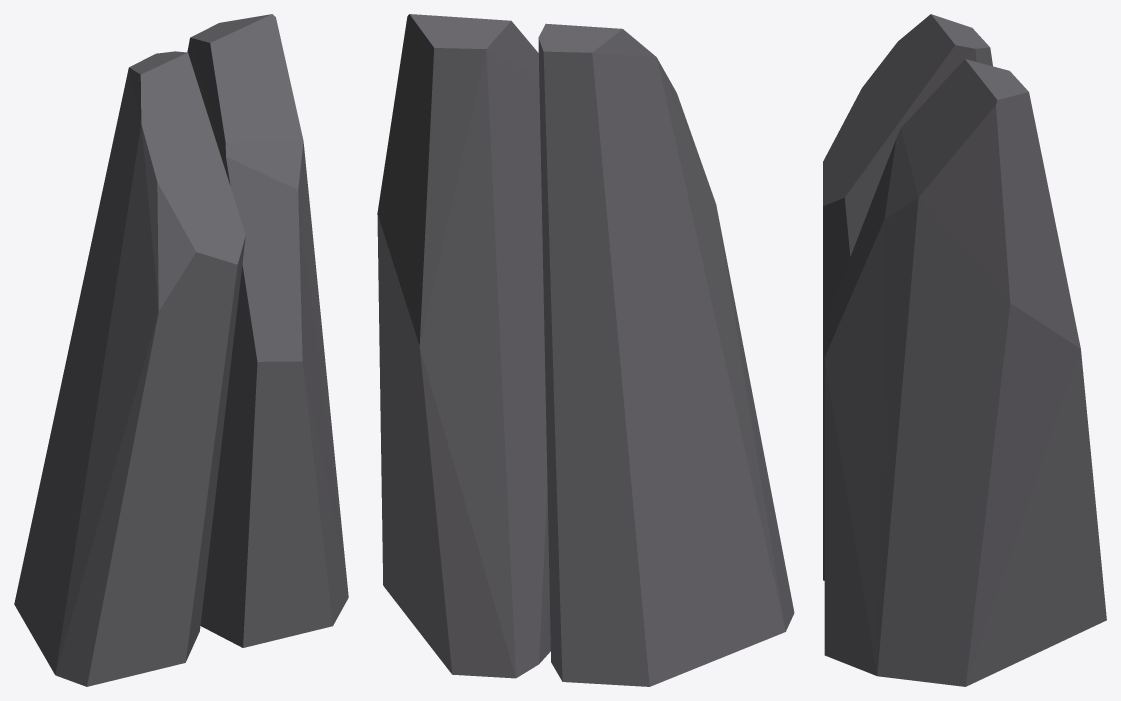
The model's file is Rock_Sharp_m_15.fbx.
3 renders of one model, left to right at view 1: azimuth 30°, elevation 25°; view 2: azimuth 150°, elevation 25°; view 3: azimuth 270°, elevation 25°, orthographic. The views are drawn at different scales.
Parts seen in each view (by area): view 1: Rock_Sharp_m_15; view 2: Rock_Sharp_m_15; view 3: Rock_Sharp_m_15.
Boxes of the visible parts, bbox=[...] form: Rock_Sharp_m_15: bbox=[14, 14, 348, 686]; Rock_Sharp_m_15: bbox=[377, 14, 794, 686]; Rock_Sharp_m_15: bbox=[823, 14, 1106, 686].
Bounding box in the file's own units: 89.73 × 147 × 66.19.
